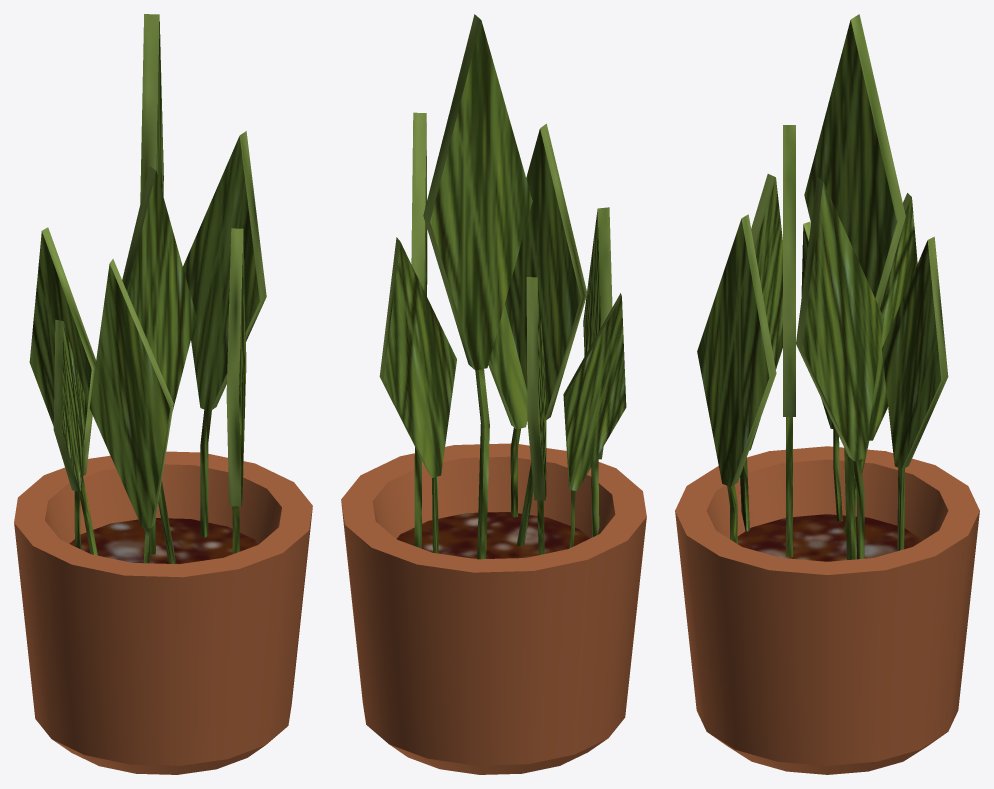
The model's file is Plant 1.fbx.
The picture shows the model from 3 angles, left to right: view 1: azimuth 30°, elevation 25°; view 2: azimuth 150°, elevation 25°; view 3: azimuth 270°, elevation 25°; orthographic projection. The views are drawn at different scales.
Visible parts, largest first — view 1: plant_1; view 2: plant_1; view 3: plant_1.
Part boxes in pixels (left/top/right/bottom): plant_1: left=14, top=14, right=312, bottom=774; plant_1: left=341, top=14, right=646, bottom=774; plant_1: left=675, top=14, right=979, bottom=774.
Size of the model in its own units: 51.27 by 132 by 51.27.
Materials: 1 (1 with a texture image).
